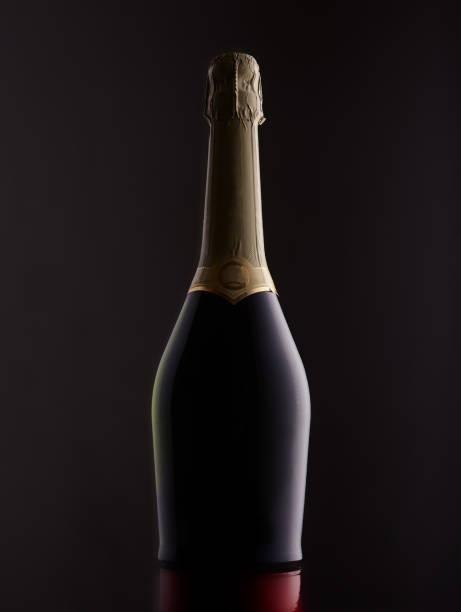bottle-glass: (146, 47, 317, 608)
